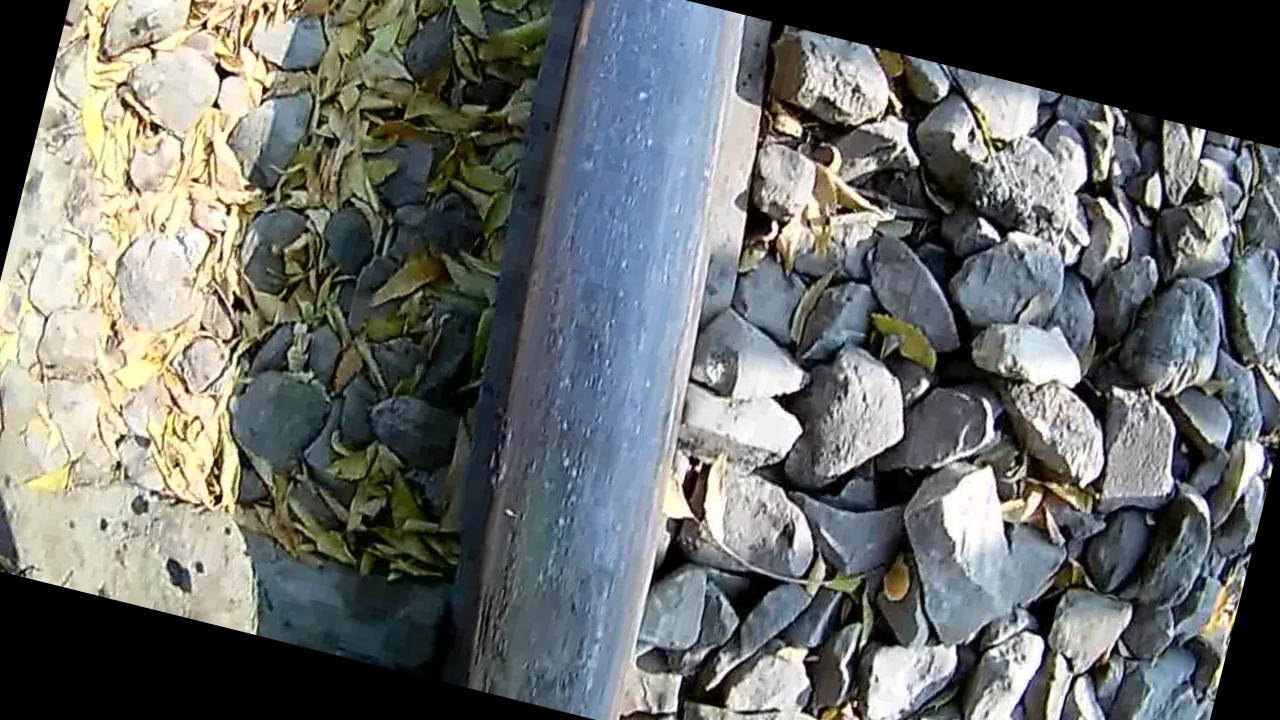bolt_missing: (443, 491, 664, 720)
